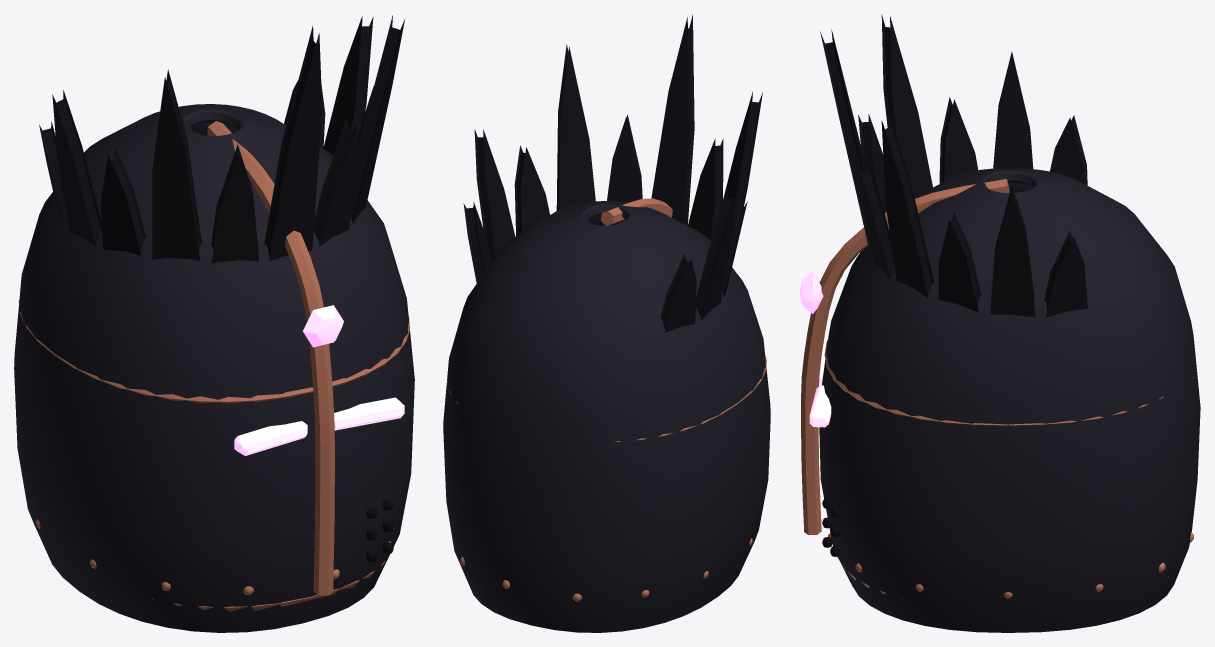
The model's file is boss_obsidian_oath_helm.glb.
3 views of the same model, side by side, from view 1: azimuth 30°, elevation 25°; view 2: azimuth 150°, elevation 25°; view 3: azimuth 270°, elevation 25° (orthographic). The views are drawn at different scales.
Parts seen in each view (by area): view 1: boss_obsidian_oath_helm; view 2: boss_obsidian_oath_helm; view 3: boss_obsidian_oath_helm.
Part boxes in pixels (<box>): boss_obsidian_oath_helm: <box>14,15,414,632</box>; boss_obsidian_oath_helm: <box>443,14,770,632</box>; boss_obsidian_oath_helm: <box>799,14,1200,632</box>.
Size of the model in its own units: 0.3501 by 0.6181 by 0.4109.
